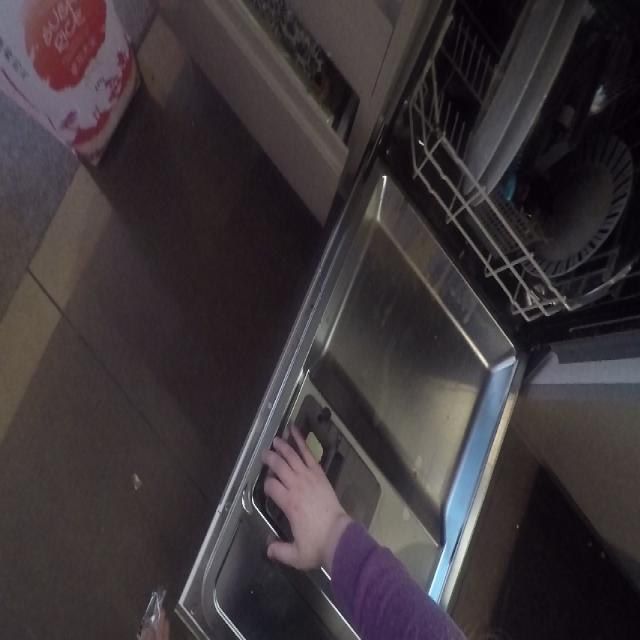dishwasher: (363, 1, 640, 507)
right hand: (260, 417, 337, 589)
